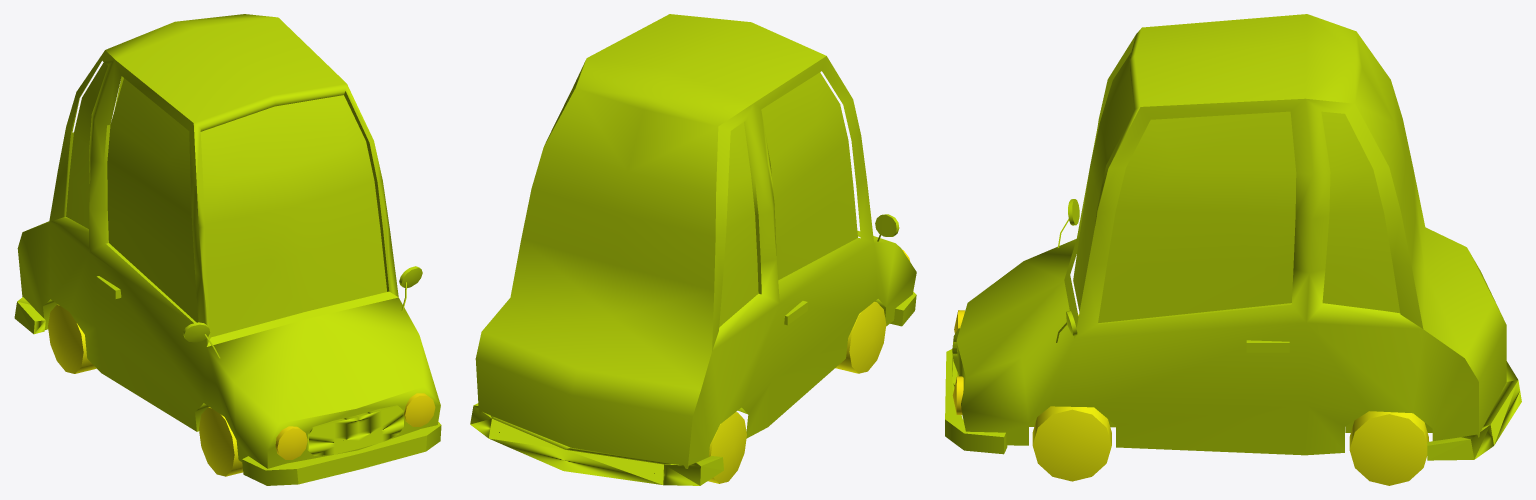
File: Car01Night.glb
3 renders of one model, left to right at view 1: azimuth 30°, elevation 25°; view 2: azimuth 150°, elevation 25°; view 3: azimuth 270°, elevation 25°, orthographic. The views are drawn at different scales.
Parts seen in each view (by area): view 1: Car1Night; view 2: Car1Night; view 3: Car1Night.
Boxes of the visible parts, x1=… form: Car1Night: x1=14, y1=14, x2=441, y2=485; Car1Night: x1=470, y1=14, x2=916, y2=485; Car1Night: x1=945, y1=14, x2=1521, y2=485.
Bounding box in the file's own units: 1.53 × 2.15 × 2.91.
1 material, 1 textured.
